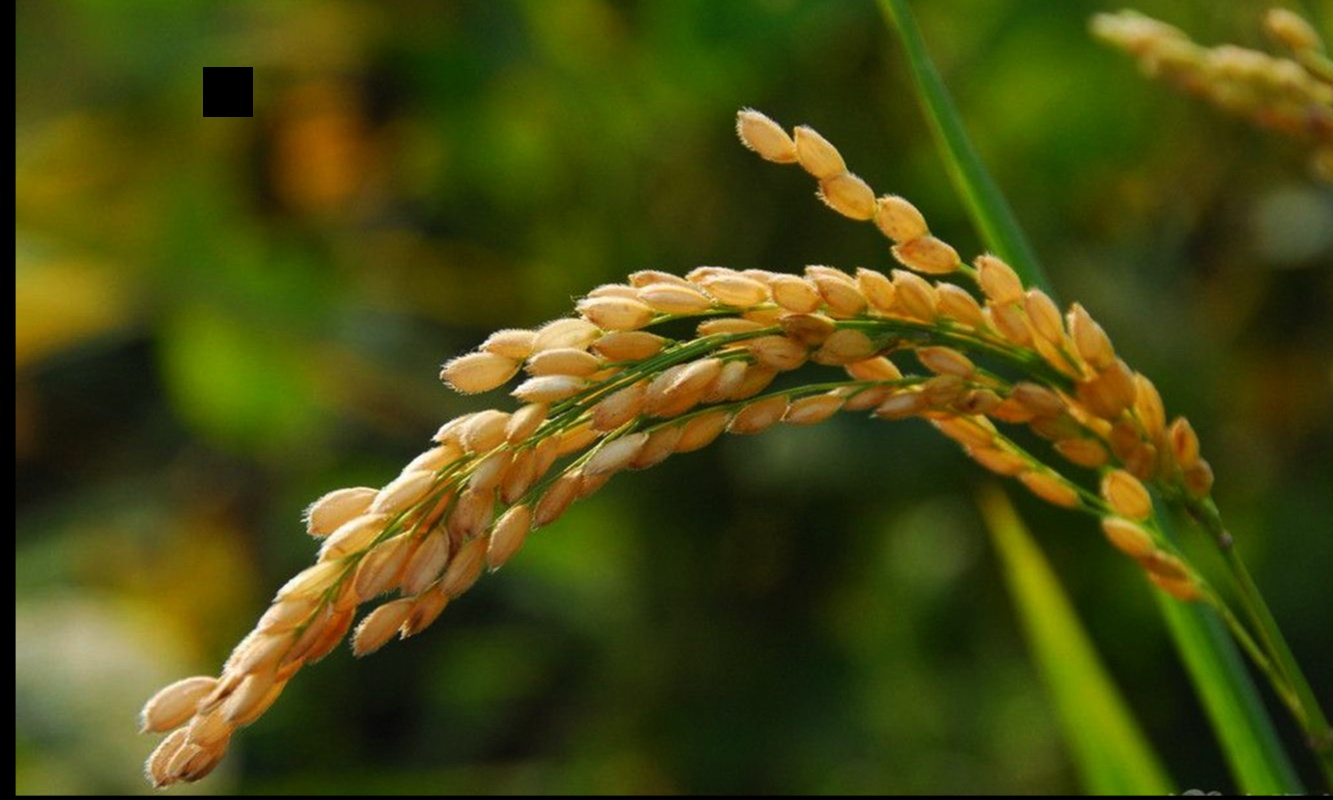rice: (130, 50, 1210, 791)
